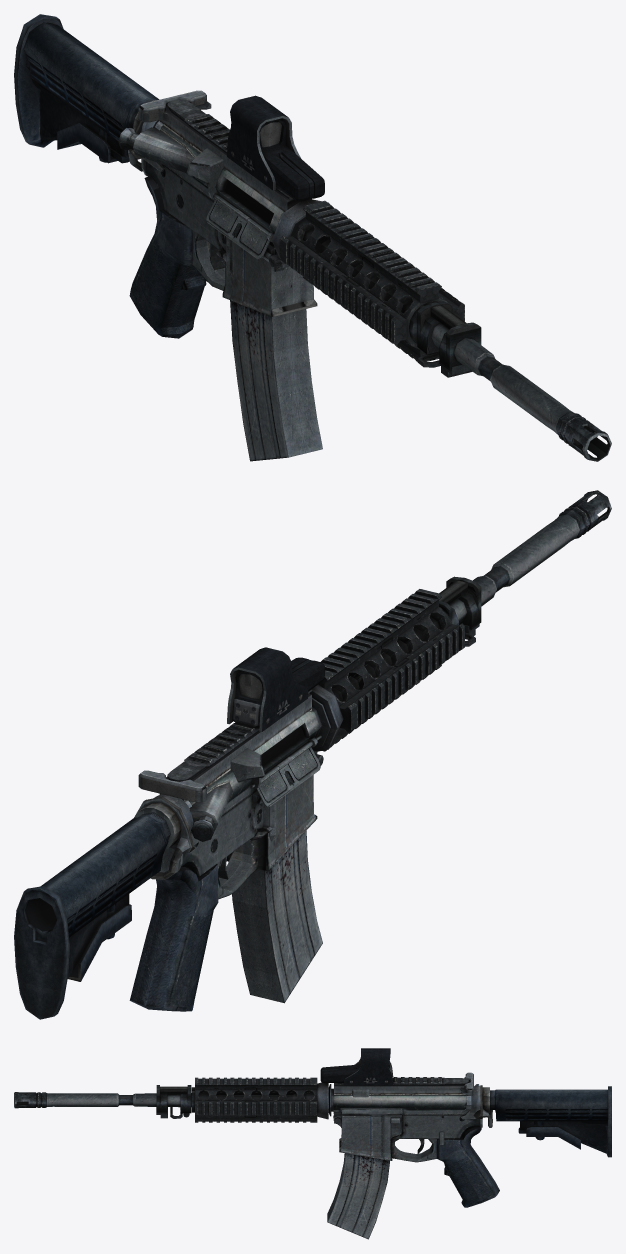
Rendered from M4_Rifle_01.fbx.
3 views of the same model, one above another, from view 1: azimuth 30°, elevation 25°; view 2: azimuth 150°, elevation 25°; view 3: azimuth 270°, elevation 25° (orthographic). The views are drawn at different scales.
Visible parts, largest first — view 1: M4; view 2: M4; view 3: M4.
Part boxes in pixels (x1,y1,x2,y2): M4: (14, 14, 611, 461); M4: (14, 490, 611, 1019); M4: (14, 1048, 611, 1239).
Size of the model in its own units: 7.21 by 28.42 by 83.54.
